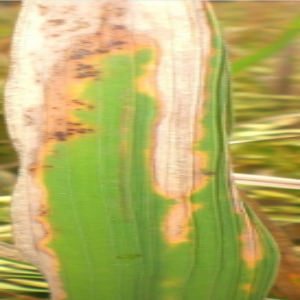Bacterial_Blight: (3, 1, 220, 296)
